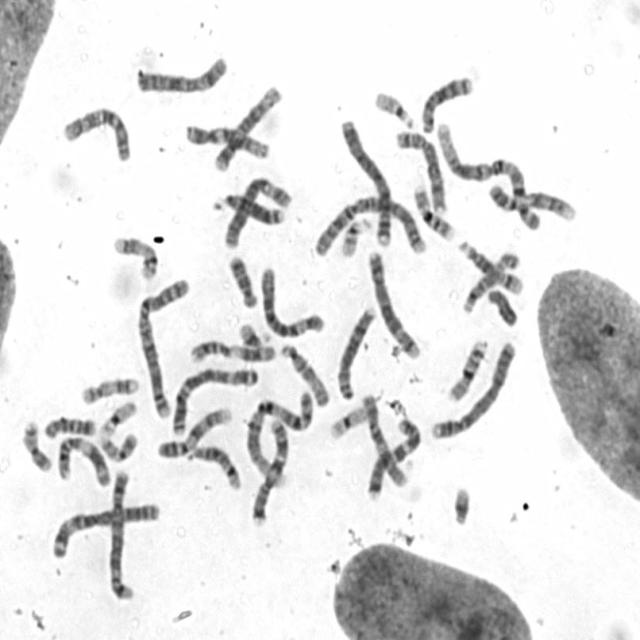A1: (435, 121, 542, 232), (242, 389, 313, 490)
A2: (135, 277, 191, 420), (312, 196, 429, 256)
A3: (50, 500, 161, 562), (170, 368, 258, 438)
B4: (429, 340, 518, 443), (339, 119, 395, 247)
B5: (366, 251, 421, 359), (108, 469, 135, 599)
C10: (360, 393, 409, 488), (60, 104, 134, 164)
C11: (57, 436, 111, 488), (190, 337, 275, 365)
C12: (214, 84, 284, 174), (185, 123, 272, 160)
C6: (222, 174, 293, 251), (260, 266, 326, 339)
C7: (365, 417, 424, 500), (249, 418, 291, 529)
C8: (394, 131, 447, 214), (335, 304, 376, 402)
C9: (157, 405, 232, 460), (486, 181, 578, 222)
D13: (421, 74, 475, 134), (212, 192, 286, 226)
D14: (457, 238, 524, 295), (185, 444, 241, 494)
D15: (278, 342, 332, 410), (461, 252, 520, 314)
E16: (445, 340, 488, 402), (412, 185, 458, 241)
E17: (112, 233, 158, 282), (80, 378, 142, 404)
E18: (227, 253, 259, 308), (44, 416, 98, 441)
F19: (326, 406, 371, 442), (99, 399, 138, 438)
F20: (22, 421, 52, 475), (96, 431, 139, 464)
G21: (442, 483, 481, 531), (238, 320, 272, 348)
G22: (373, 89, 415, 129), (340, 218, 371, 257)
X: (133, 55, 230, 98)
Y: (488, 288, 518, 327)
